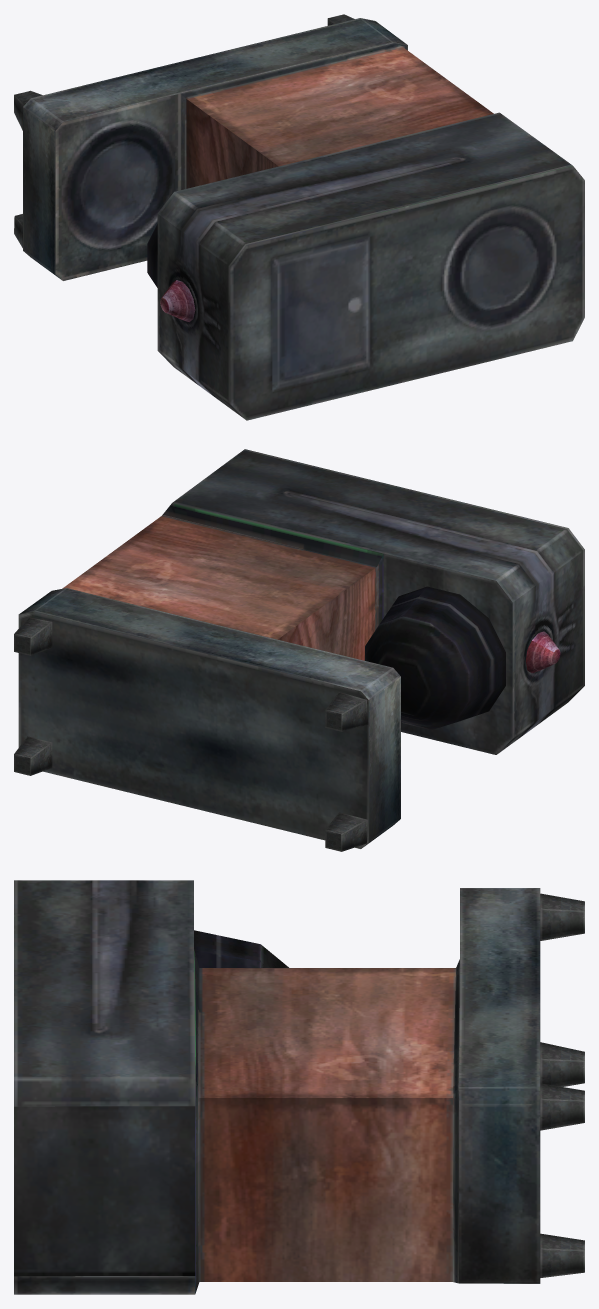
File: vanillamesh.obj
3 views of the same model, one above another, from view 1: azimuth 30°, elevation 25°; view 2: azimuth 150°, elevation 25°; view 3: azimuth 270°, elevation 25° (orthographic). The views are drawn at different scales.
Parts seen in each view (by area): view 1: Low_CoffeeKing:0; view 2: Low_CoffeeKing:0; view 3: Low_CoffeeKing:0.
Boxes of the visible parts, x1,y1,x2,y2 form: Low_CoffeeKing:0: (14, 14, 584, 420); Low_CoffeeKing:0: (14, 449, 584, 851); Low_CoffeeKing:0: (14, 880, 584, 1294).
Size of the model in its own units: 42.43 by 18.92 by 45.07.
